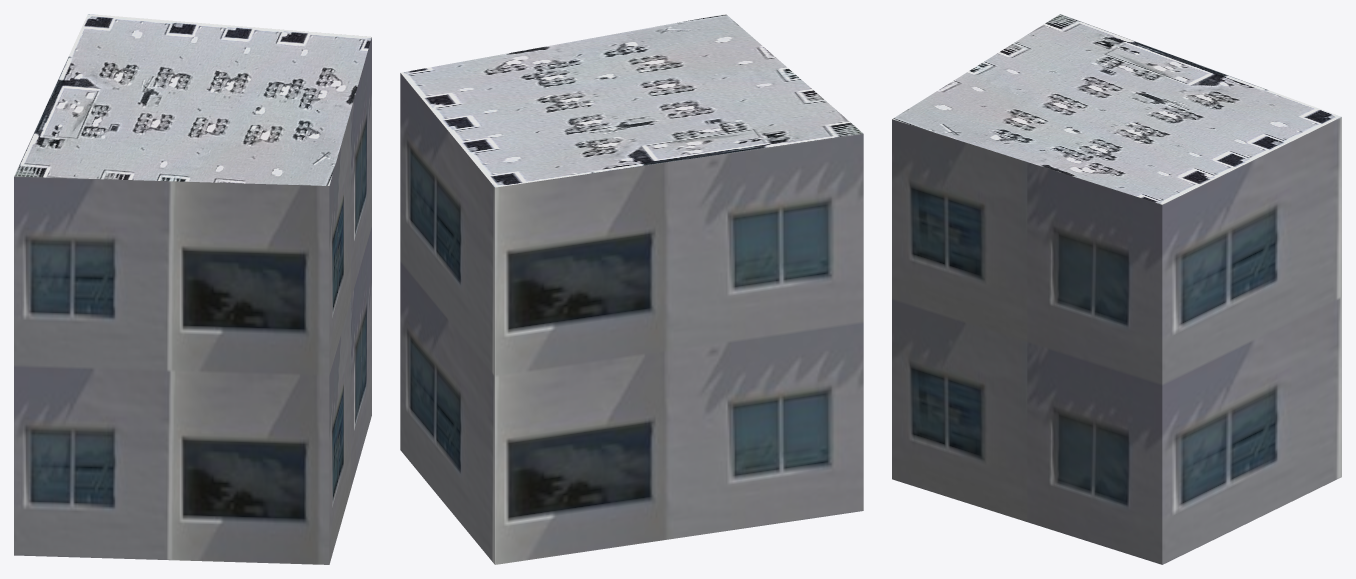
Rendered from ResTex__4609.fbx.
3 renders of one model, left to right at view 1: azimuth 30°, elevation 25°; view 2: azimuth 150°, elevation 25°; view 3: azimuth 270°, elevation 25°, orthographic. The views are drawn at different scales.
Visible parts, largest first — view 1: CityEngineMaterial_10_m, CityEngineMaterial_4_m; view 2: CityEngineMaterial_10_m, CityEngineMaterial_4_m; view 3: CityEngineMaterial_10_m, CityEngineMaterial_4_m.
Boxes of the visible parts, <box> form: CityEngineMaterial_10_m: <box>14,37,371,564</box>; CityEngineMaterial_4_m: <box>14,14,371,185</box>; CityEngineMaterial_10_m: <box>400,73,863,564</box>; CityEngineMaterial_4_m: <box>400,14,862,187</box>; CityEngineMaterial_10_m: <box>892,117,1341,564</box>; CityEngineMaterial_4_m: <box>892,14,1341,204</box>.
Size of the model in its own units: 6.82 by 6 by 6.79.
2 materials, 2 textured.
